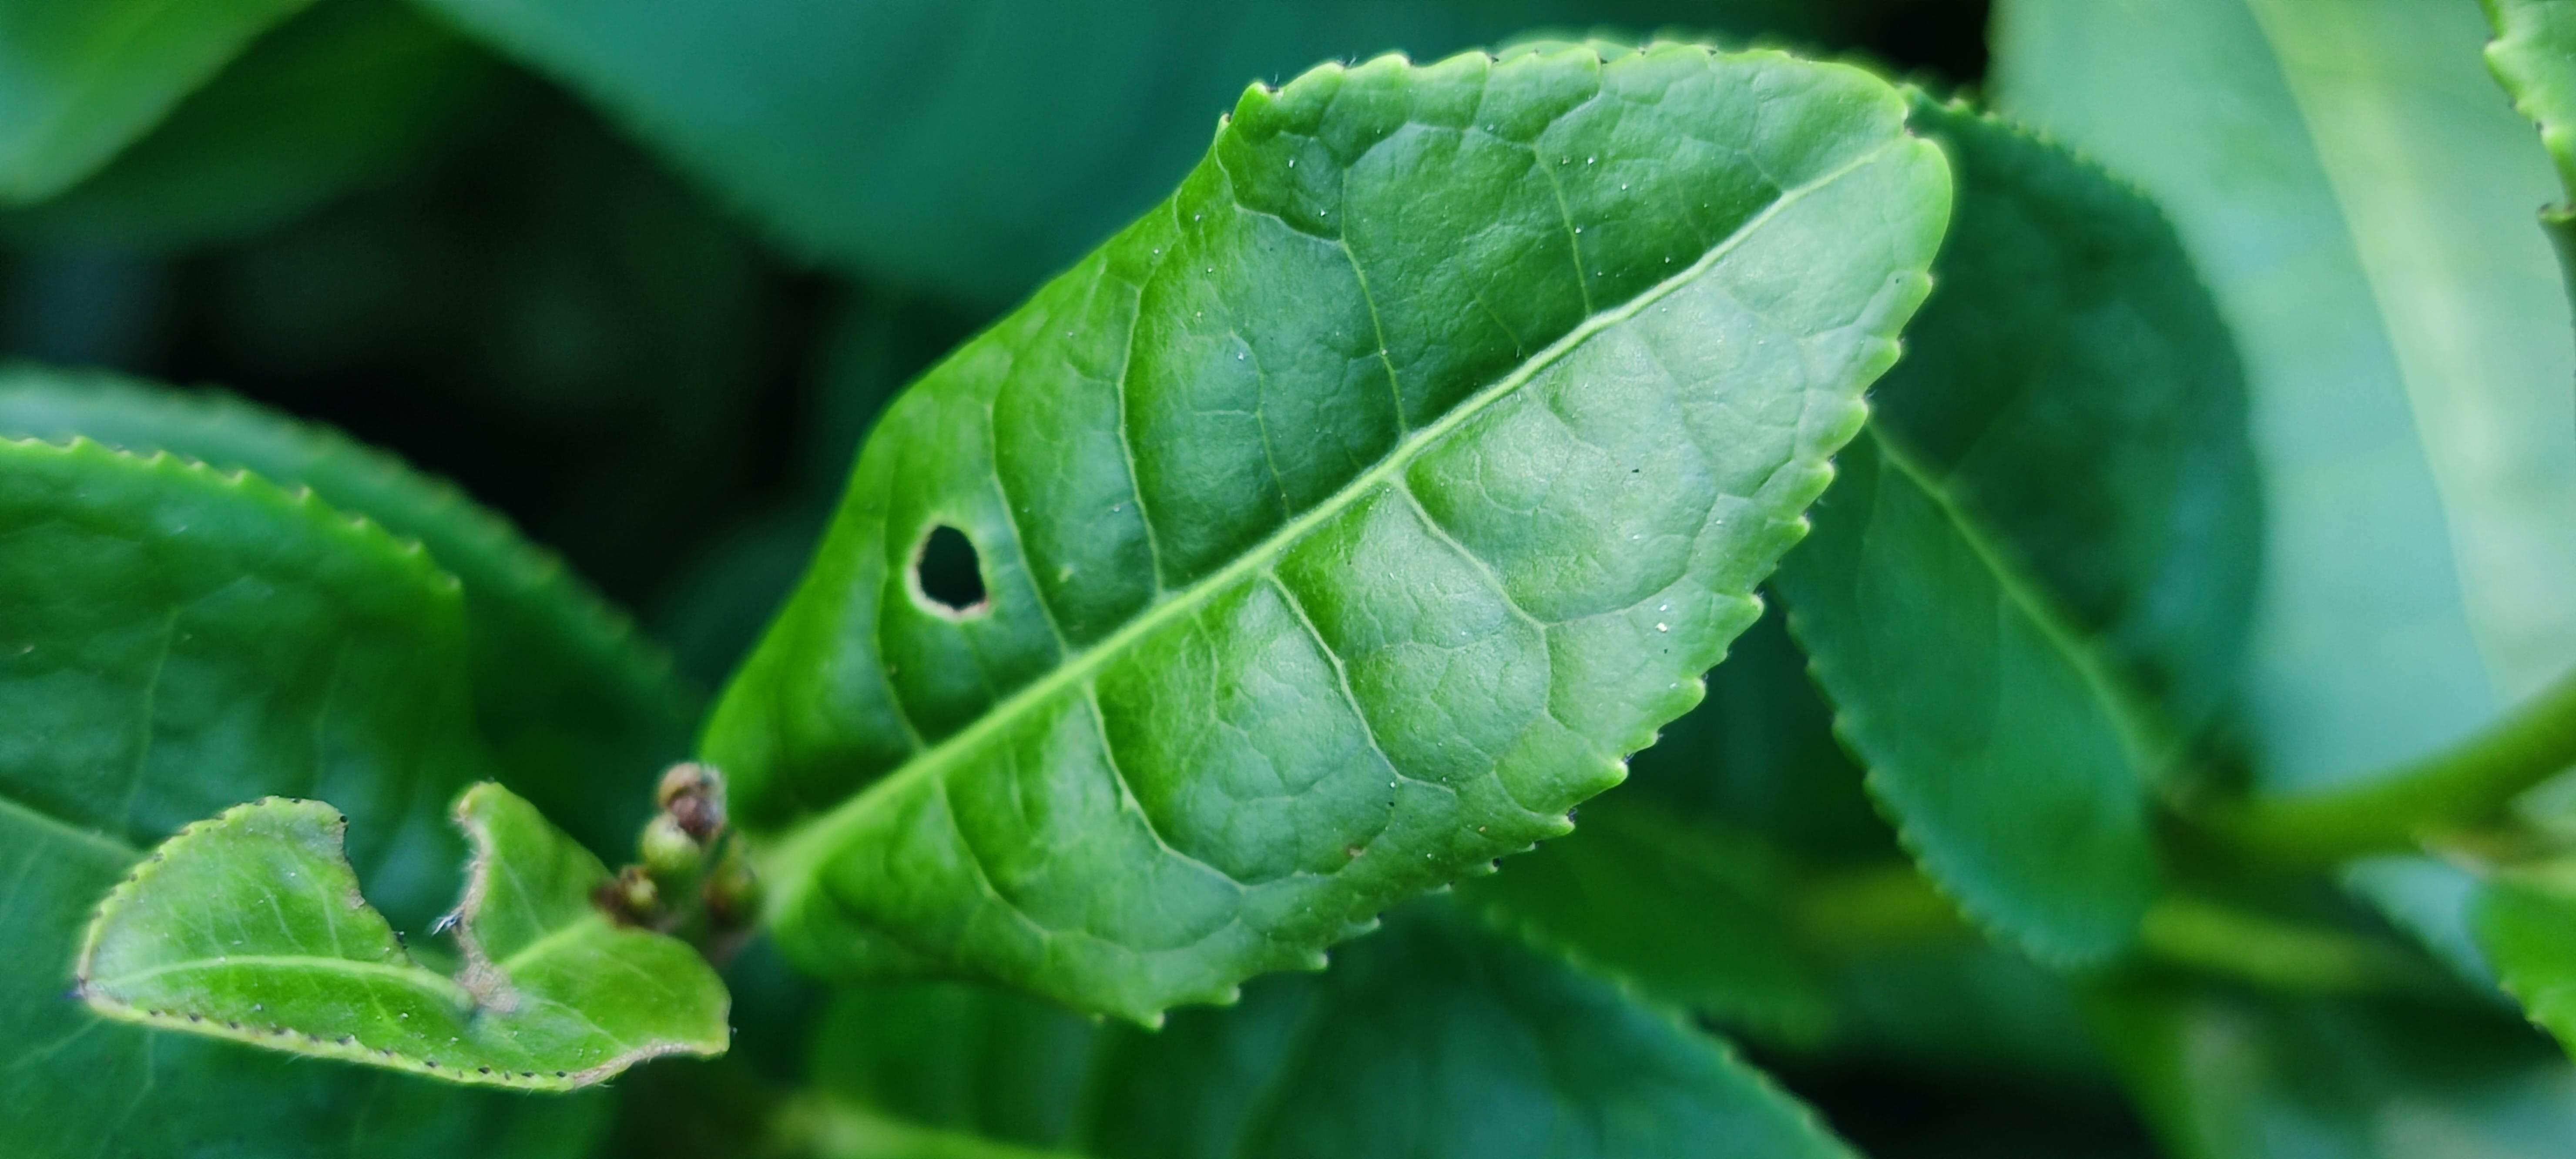chihuo_high: (72, 773, 743, 1097)
chihuo_low: (685, 38, 1957, 1042)
